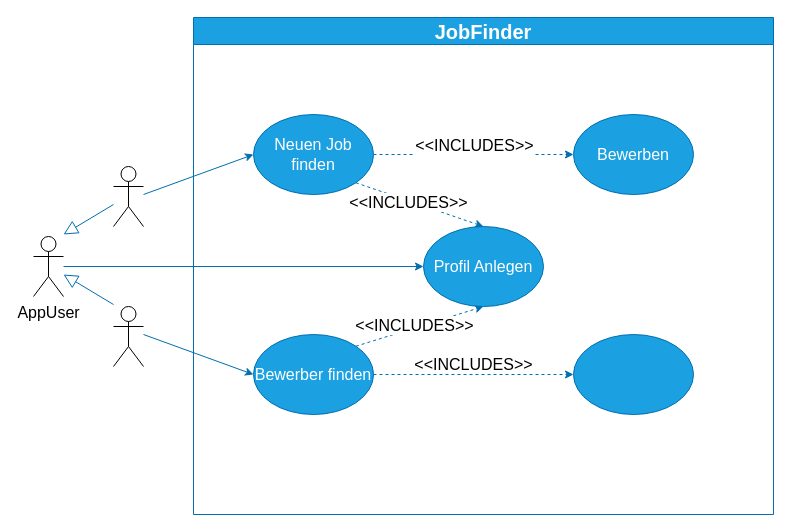
Some shapes in this 791 by 532 pixel diagram are drawn without their labels. The centre of each missing label's shape, as x and y in pixels:
"Bewerber" goes at pixel 128 196.
"Stellen veröffentlichen" goes at pixel 633 374.
"Unternehemen" goes at pixel 128 336.
